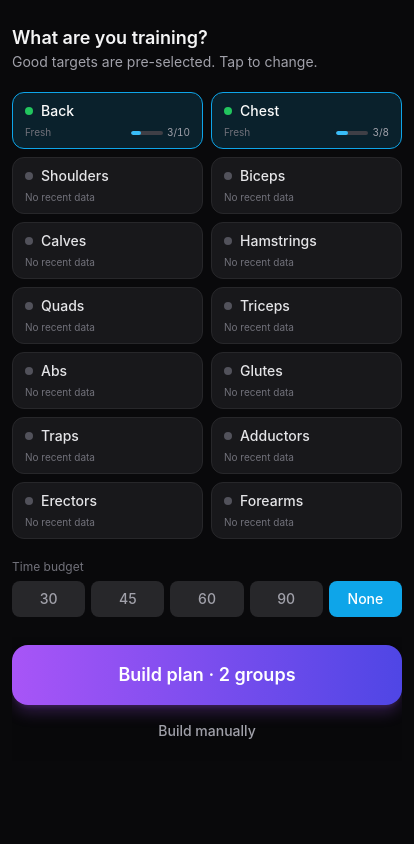
Test: WorkoutSetupFlow › Build plan is disabled with no groups selected
This screenshot has width=414, height=844.
What coordinates should you click on to do the following:
click the button with test id "setup-chip-chest"
I would click on:
 (306, 120)
Its box is [211,92,402,149].
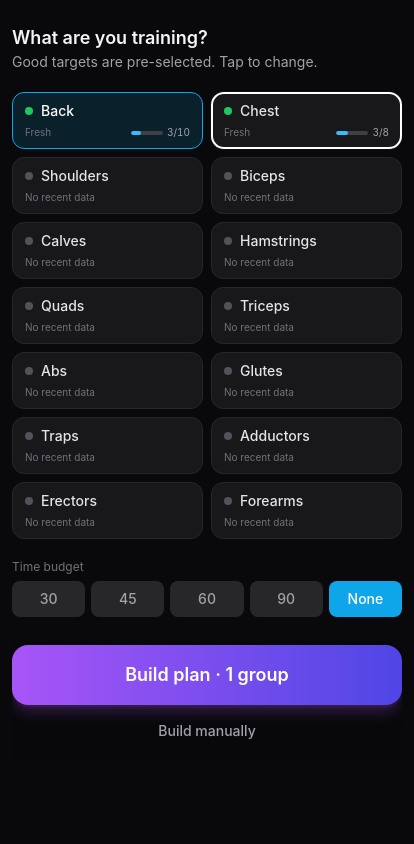
What coordinates should you click on to do the following:
click the button with test id "setup-chip-back"
I would click on:
 (108, 120)
Its box is [12,92,203,149].
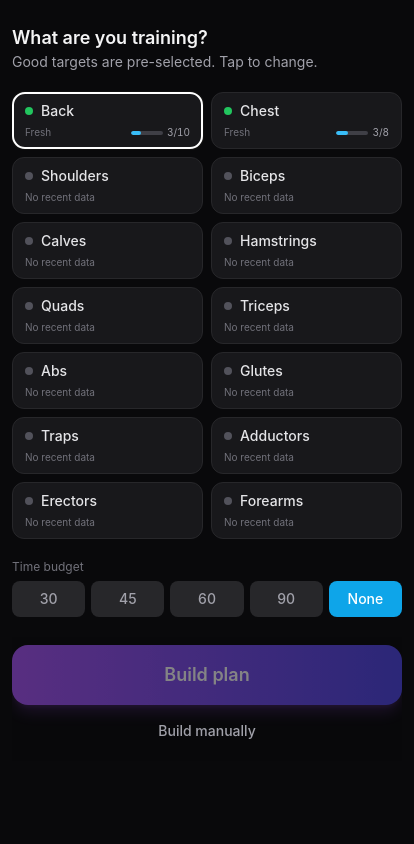
Now the button with test id "setup-build-plan" is disabled, box [12,645,402,705]
